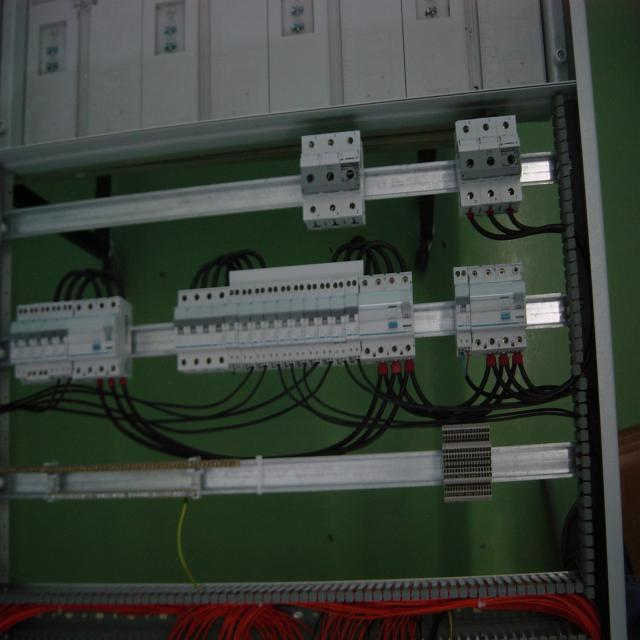FI_Sicherungskombi: (357, 271, 416, 360), (469, 263, 527, 351), (69, 296, 121, 379)
Leitungsschutzschalter: (453, 266, 472, 347), (199, 287, 217, 369), (33, 302, 51, 380), (237, 285, 255, 363), (250, 284, 268, 362), (344, 275, 361, 357), (22, 304, 40, 381), (224, 286, 242, 363), (174, 289, 191, 370), (291, 280, 308, 360), (331, 277, 348, 357), (44, 301, 62, 376), (56, 300, 74, 375), (264, 282, 281, 361), (10, 306, 28, 378), (188, 288, 204, 369), (277, 280, 293, 360), (304, 279, 320, 359), (318, 278, 334, 358), (213, 287, 228, 367)
